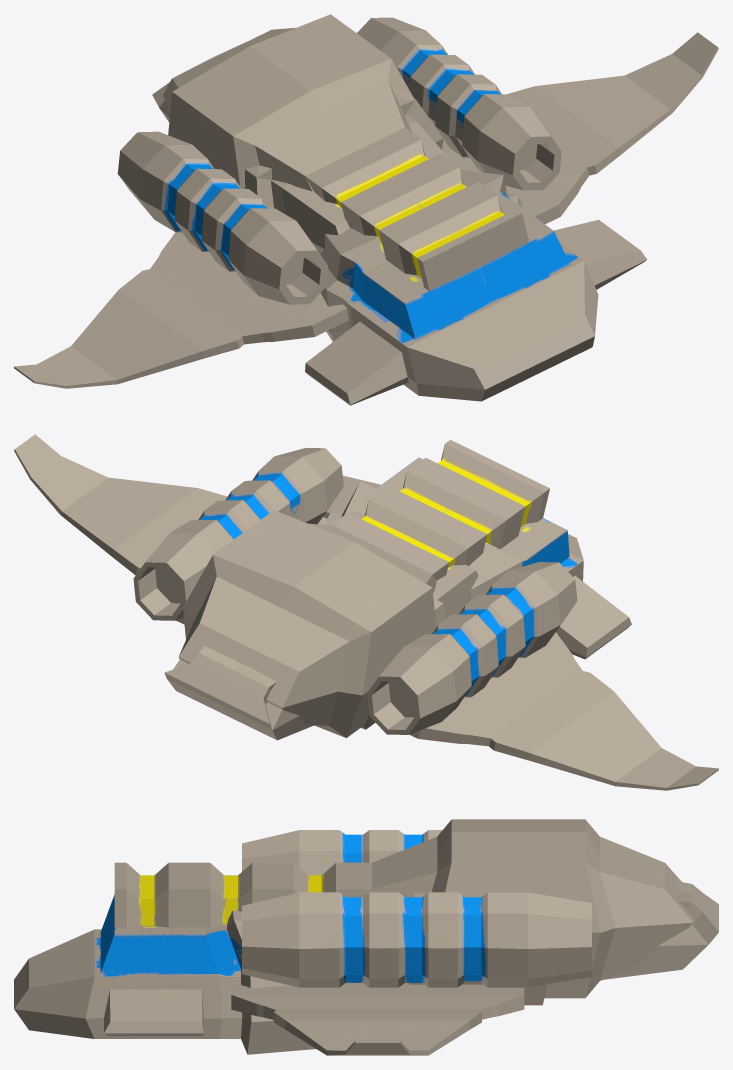
The model's file is Nave2.glb.
3 renders of one model, top to bottom at view 1: azimuth 30°, elevation 25°; view 2: azimuth 150°, elevation 25°; view 3: azimuth 270°, elevation 25°, orthographic. The views are drawn at different scales.
Visible parts, largest first — view 1: Cube; view 2: Cube; view 3: Cube.
Part boxes in pixels (box(x1,y1,x2,y2)): Cube: box(14, 14, 718, 405); Cube: box(14, 434, 718, 790); Cube: box(14, 819, 718, 1055).
Bounding box in the file's own units: 9.01 × 2.56 × 7.32.
1 material, 1 textured.
